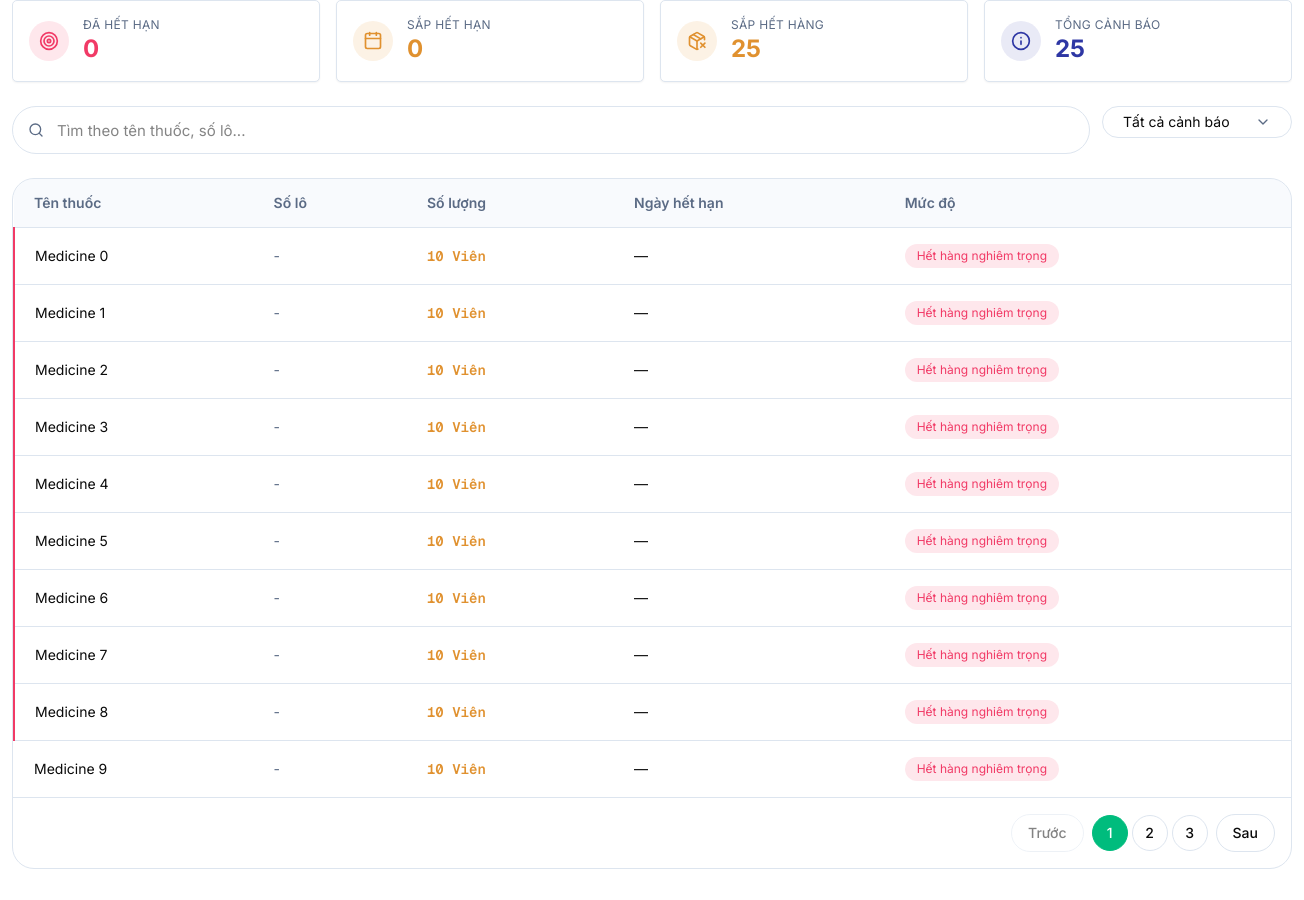
it: InventoryAlertsList › should render alerts and paginate correctly
Check: the link "Medicine 0" is shown, box [35, 247, 108, 264]
Check: the link "Medicine 9" is shown, box [34, 760, 107, 777]
// Click page 2
Click the button "2" at (1150,833), box [1132, 815, 1168, 851]
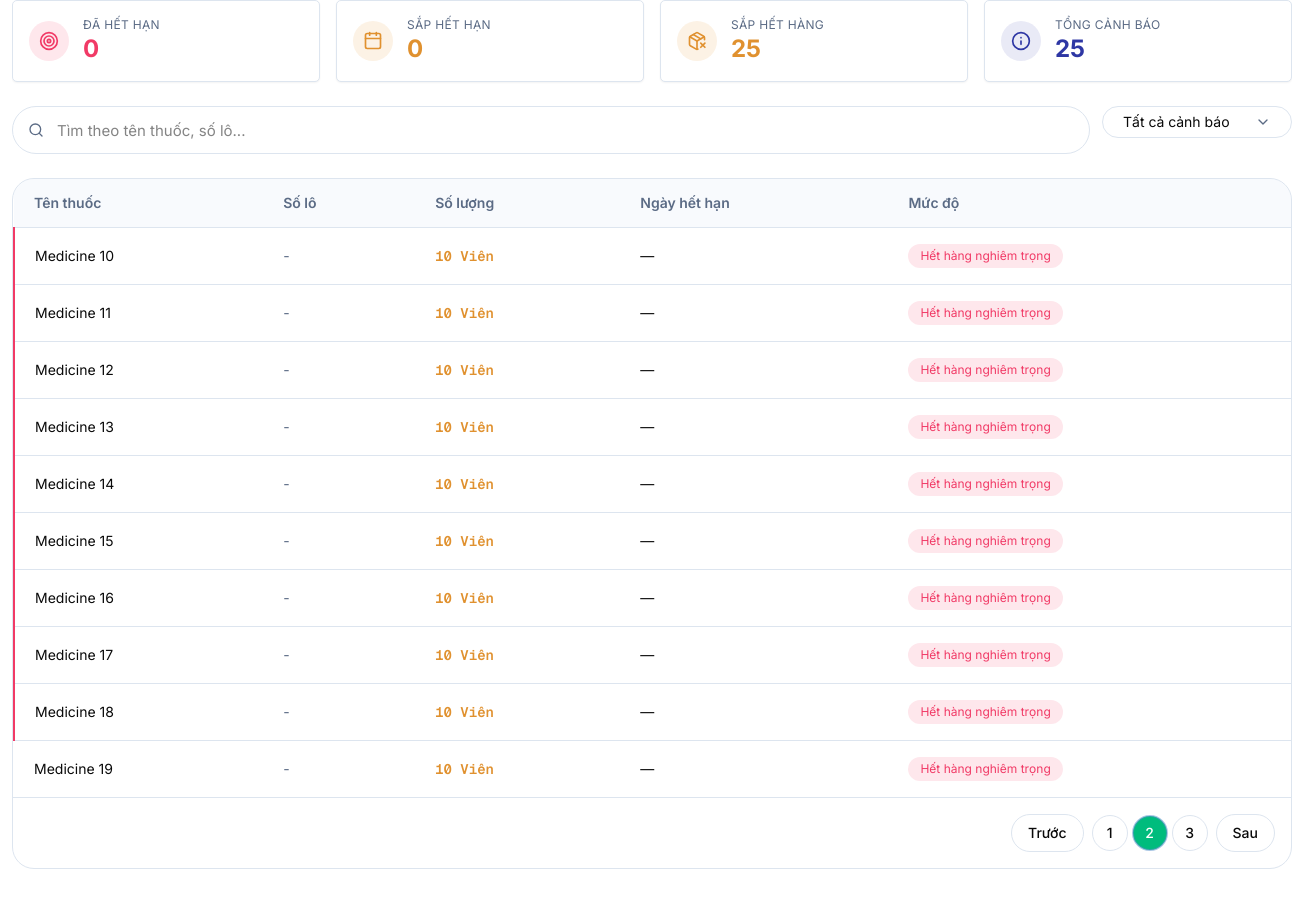
Check: the link "Medicine 10" is shown, box [35, 247, 114, 264]
Check: the link "Medicine 19" is shown, box [34, 760, 113, 777]
Check: the link "Medicine 9" is gone
